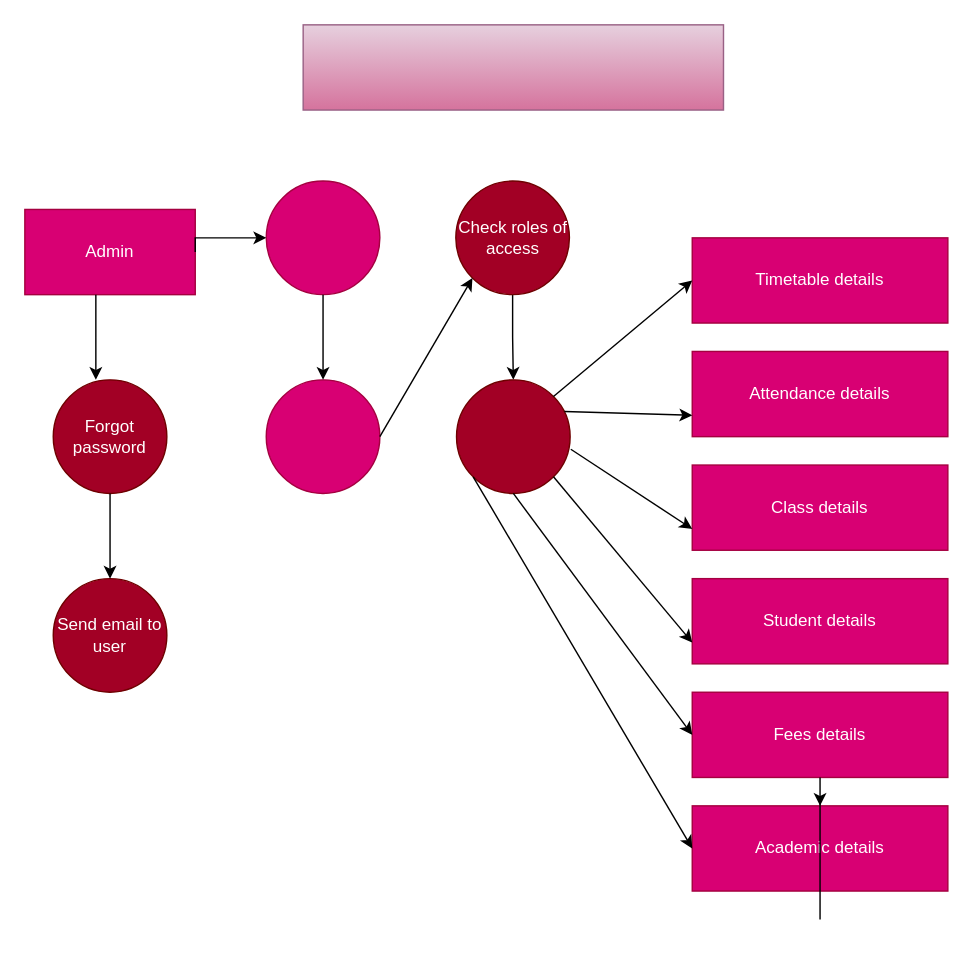
This 973x956 diagram has some shape labels left out. The shapes that lost their labels are listed below. From the top down, each one's centre as x and y in pixels, then its label:
At [512,66]: "Student Information System".
At [322,237]: "Login to system".
At [322,435]: "Check information".
At [512,435]: "Manage Modules".
